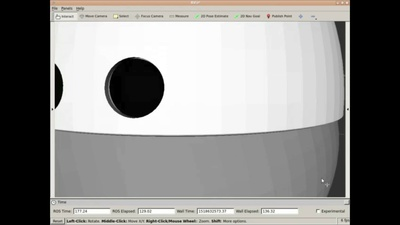mira_robot: (54, 22, 344, 196)
